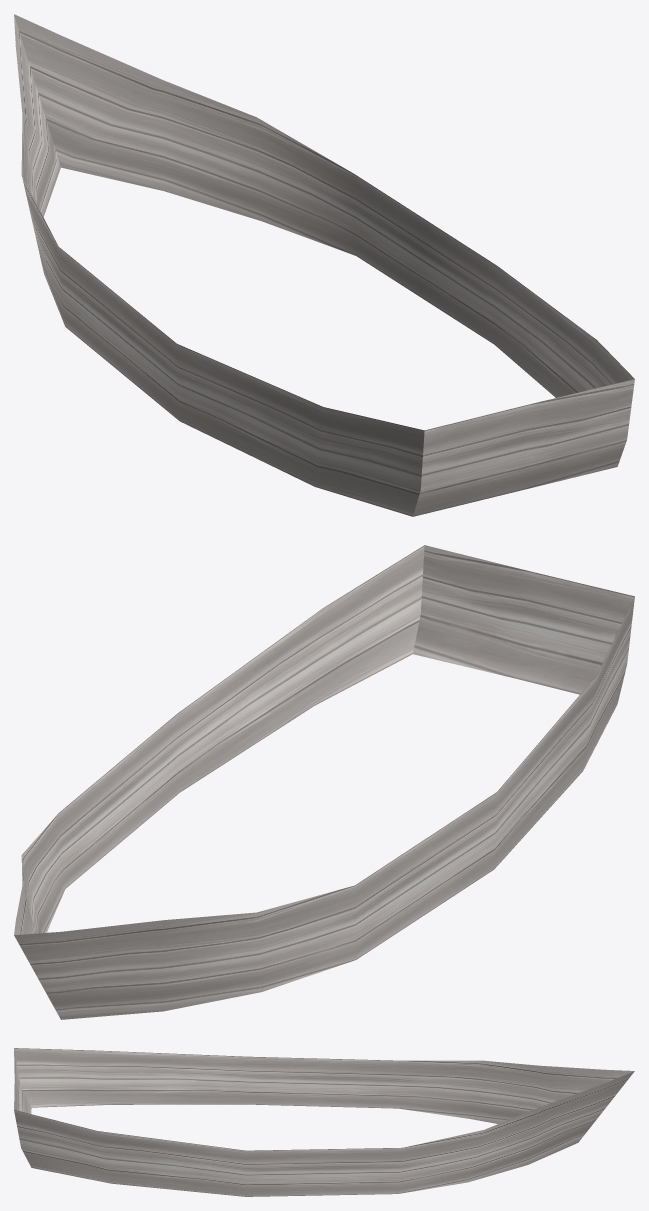
File: A_HA_GEN_Ship_Hull_02.fbx
3 views of the same model, one above another, from view 1: azimuth 30°, elevation 25°; view 2: azimuth 150°, elevation 25°; view 3: azimuth 270°, elevation 25° (orthographic). The views are drawn at different scales.
Parts seen in each view (by area): view 1: A_HA_Gen_Ship_Hull_02; view 2: A_HA_Gen_Ship_Hull_02; view 3: A_HA_Gen_Ship_Hull_02.
Part boxes in pixels (x1,y1,x2,y2): A_HA_Gen_Ship_Hull_02: (14,14,634,516); A_HA_Gen_Ship_Hull_02: (14,545,634,1019); A_HA_Gen_Ship_Hull_02: (14,1048,634,1196).
Bounding box in the file's own units: 960 × 382 × 2679.
1 material, 1 textured.
